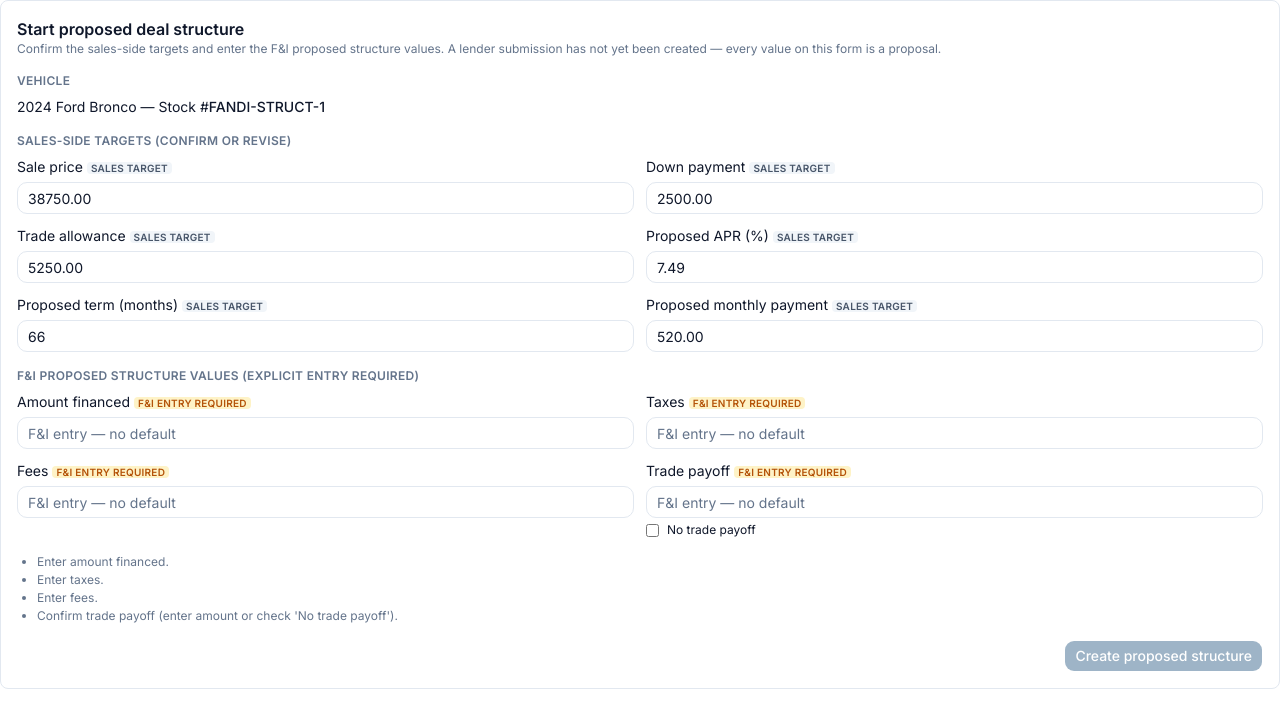
DealStructureForm — submit gate › enables submit when trade_payoff receives an explicit numeric value
The image size is (1280, 720).
Type "34499.00" into the field with test id "deal-structure-form-field-amount-financed" at coordinates (326, 433), box [17,417,634,449]
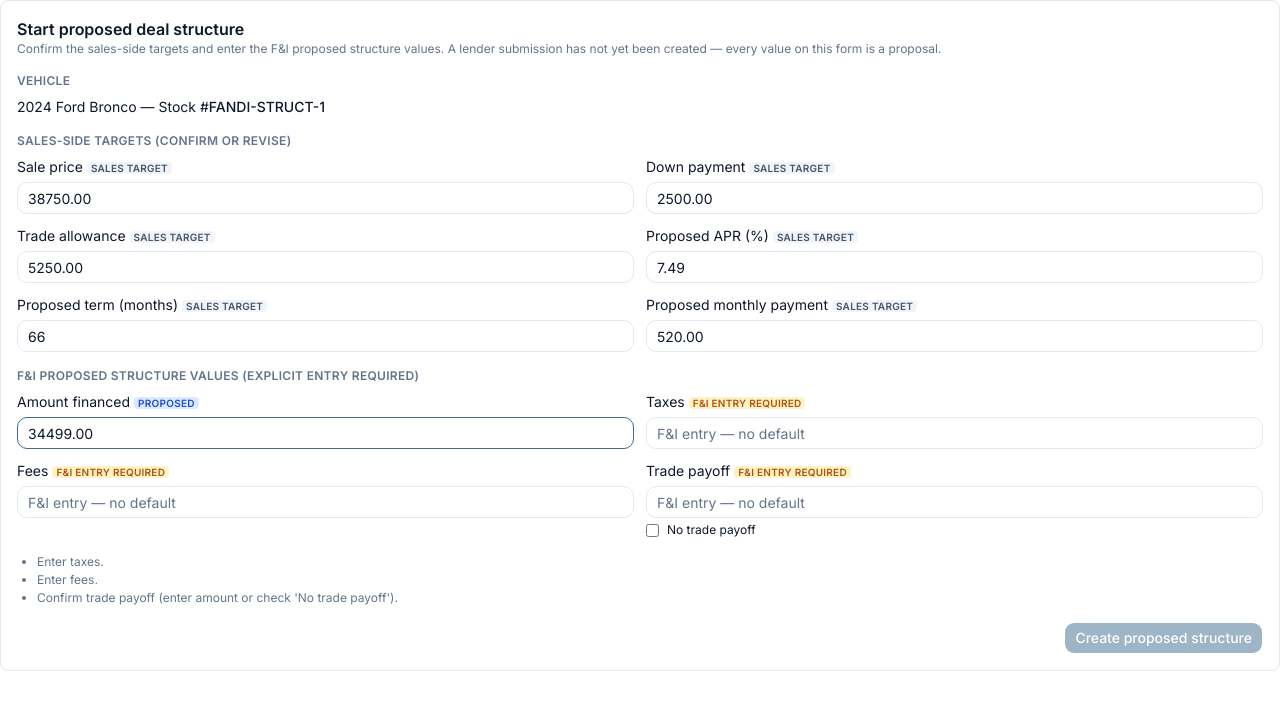
Type "2800.00" into the field with test id "deal-structure-form-field-taxes" at coordinates (954, 433), box [646,417,1263,449]
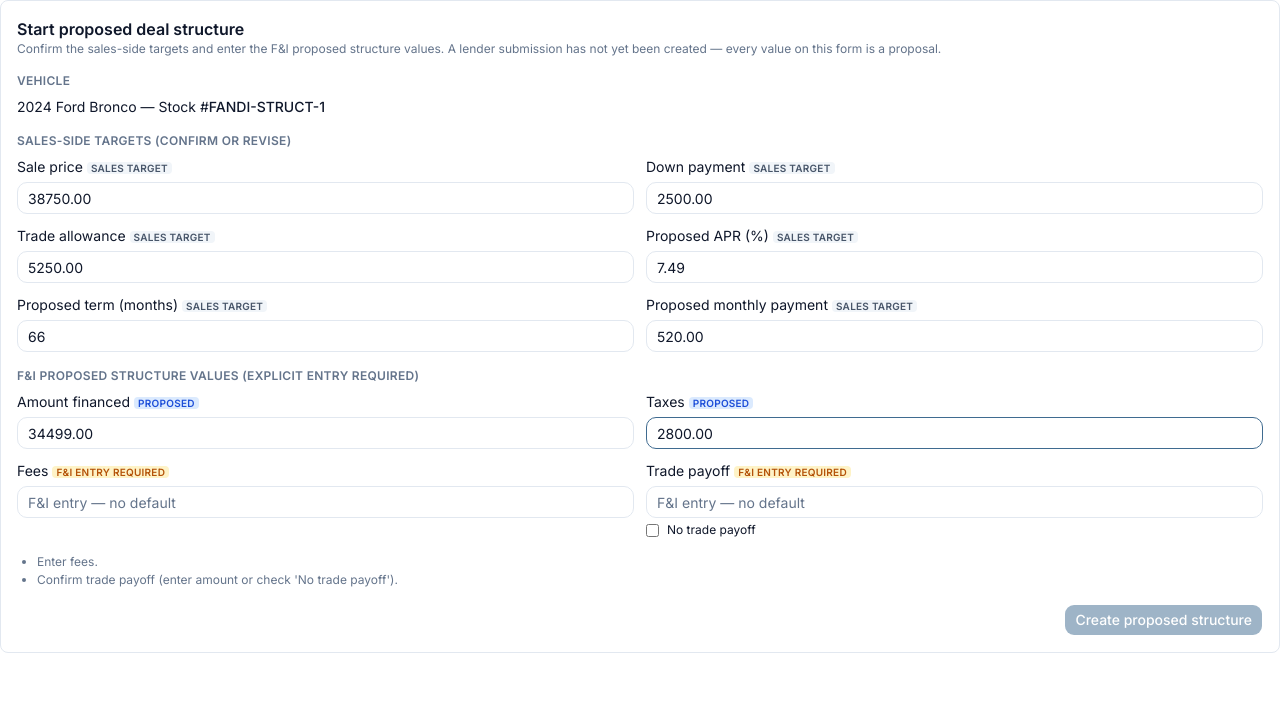
Type "699.00" into the field with test id "deal-structure-form-field-fees" at coordinates (326, 502), box [17,486,634,518]
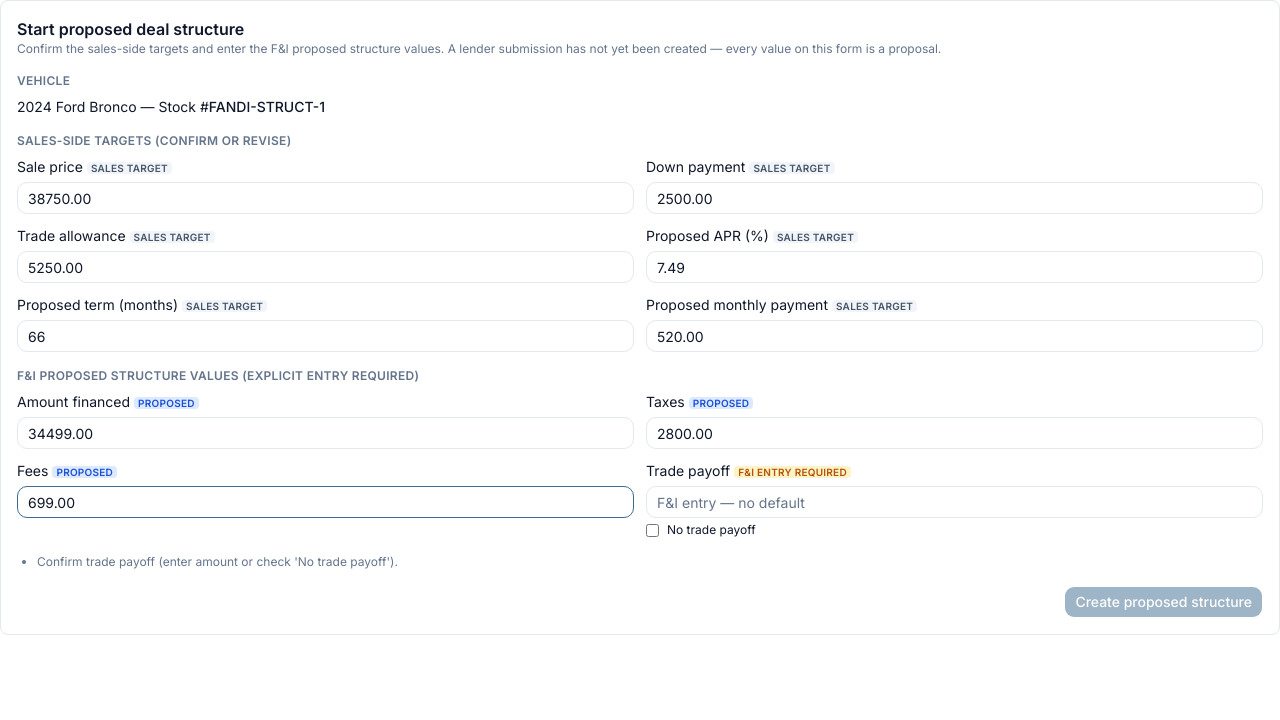
Type "1200.00" into the field with test id "deal-structure-form-field-trade-payoff" at coordinates (954, 502), box [646,486,1263,518]
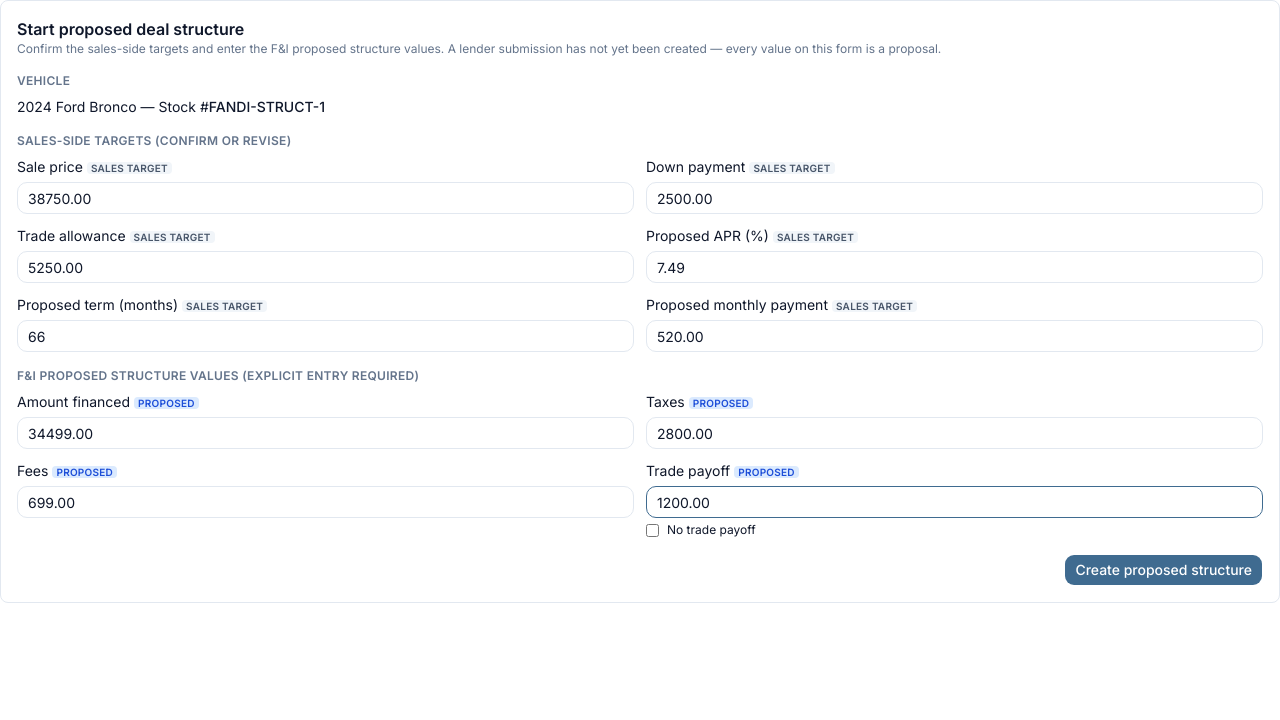
Check: the button with test id "deal-structure-form-submit" is enabled, box [1064,554,1263,586]
